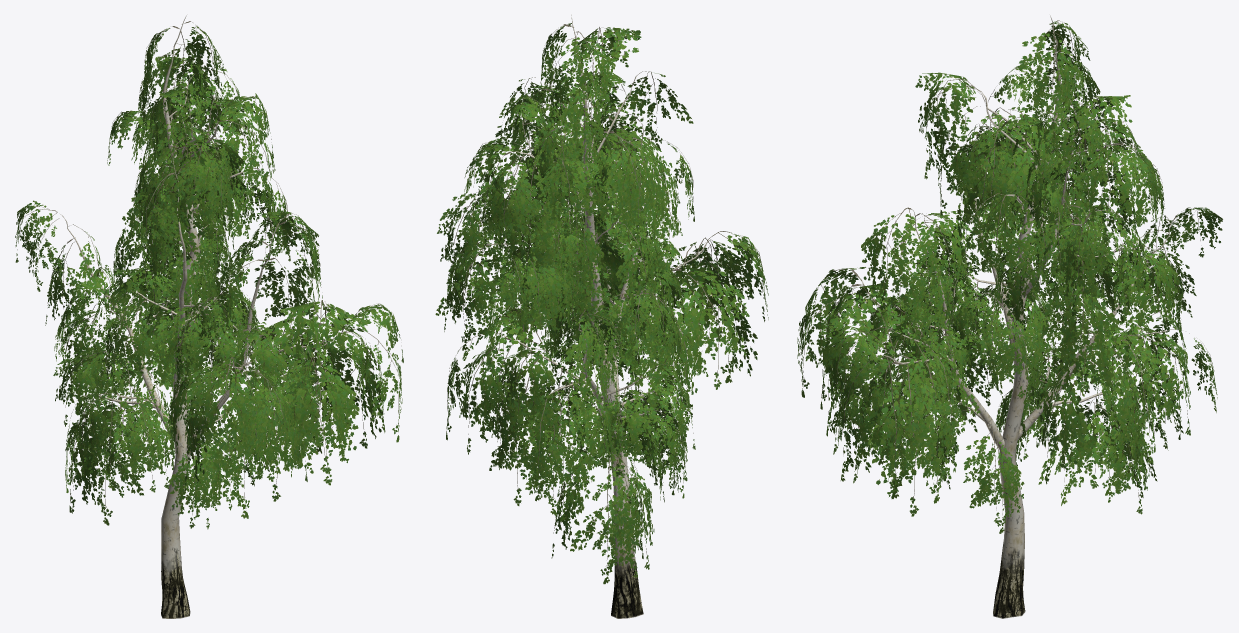
File: tree_birch_a.glb
3 renders of one model, left to right at view 1: azimuth 30°, elevation 25°; view 2: azimuth 150°, elevation 25°; view 3: azimuth 270°, elevation 25°, orthographic. The views are drawn at different scales.
Parts seen in each view (by area): view 1: tree_birch_a; view 2: tree_birch_a; view 3: tree_birch_a.
Boxes of the visible parts, x1,y1,x2,y2 form: tree_birch_a: (15, 15, 403, 618); tree_birch_a: (435, 14, 768, 618); tree_birch_a: (797, 15, 1222, 618).
Bounding box in the file's own units: 28.68 × 62 × 39.06.
2 materials, 2 textured.
